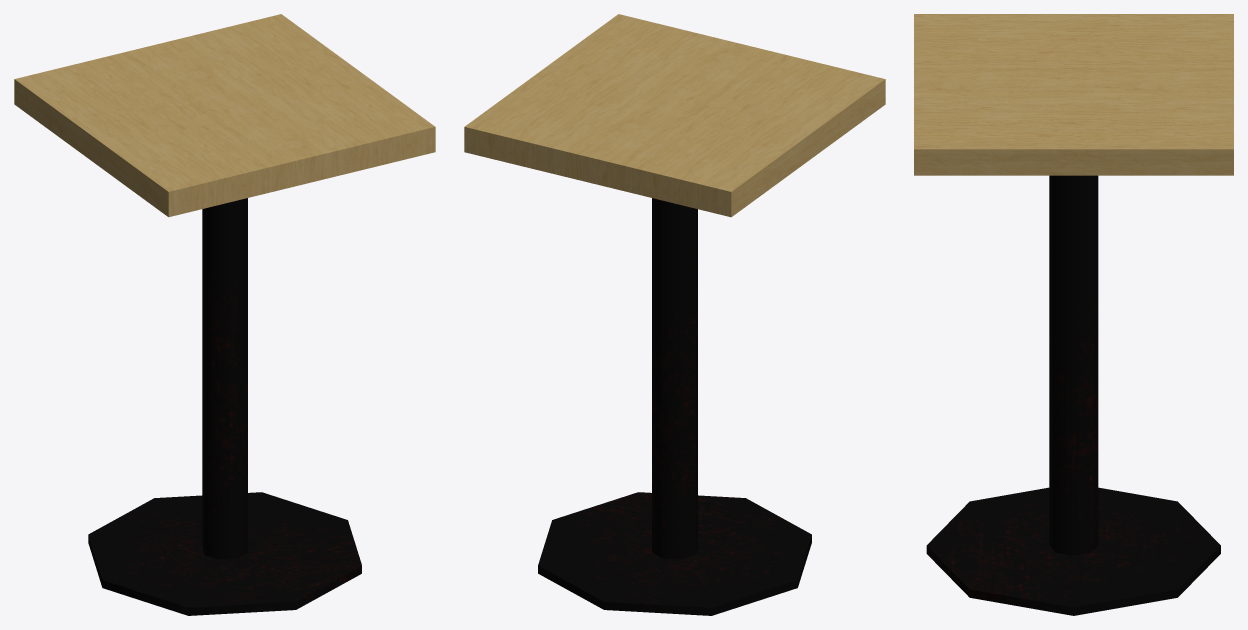
The model's file is LGSeochoB1CafeTable.fbx.
3 views of the same model, side by side, from view 1: azimuth 30°, elevation 25°; view 2: azimuth 150°, elevation 25°; view 3: azimuth 270°, elevation 25° (orthographic). The views are drawn at different scales.
Visible parts, largest first — view 1: LGSeochoB1CafeWood, LGSeochoB1Metal; view 2: LGSeochoB1CafeWood, LGSeochoB1Metal; view 3: LGSeochoB1CafeWood, LGSeochoB1Metal.
Boxes of the visible parts, <box> form: LGSeochoB1CafeWood: <box>14,14,435,217</box>; LGSeochoB1Metal: <box>88,198,361,615</box>; LGSeochoB1CafeWood: <box>464,14,885,217</box>; LGSeochoB1Metal: <box>538,198,811,615</box>; LGSeochoB1CafeWood: <box>914,14,1233,175</box>; LGSeochoB1Metal: <box>926,175,1220,615</box>.
Bounding box in the file's own units: 55 × 89.59 × 55.
2 materials, 2 textured.
